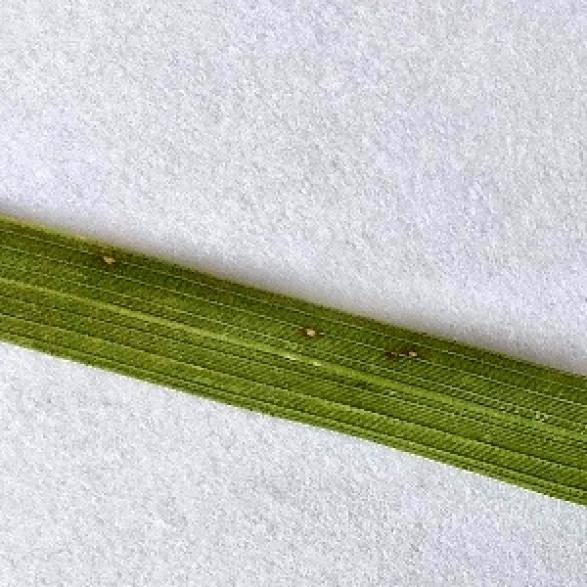Leaf_smut: (378, 336, 424, 366), (88, 246, 125, 278), (280, 317, 319, 342)
